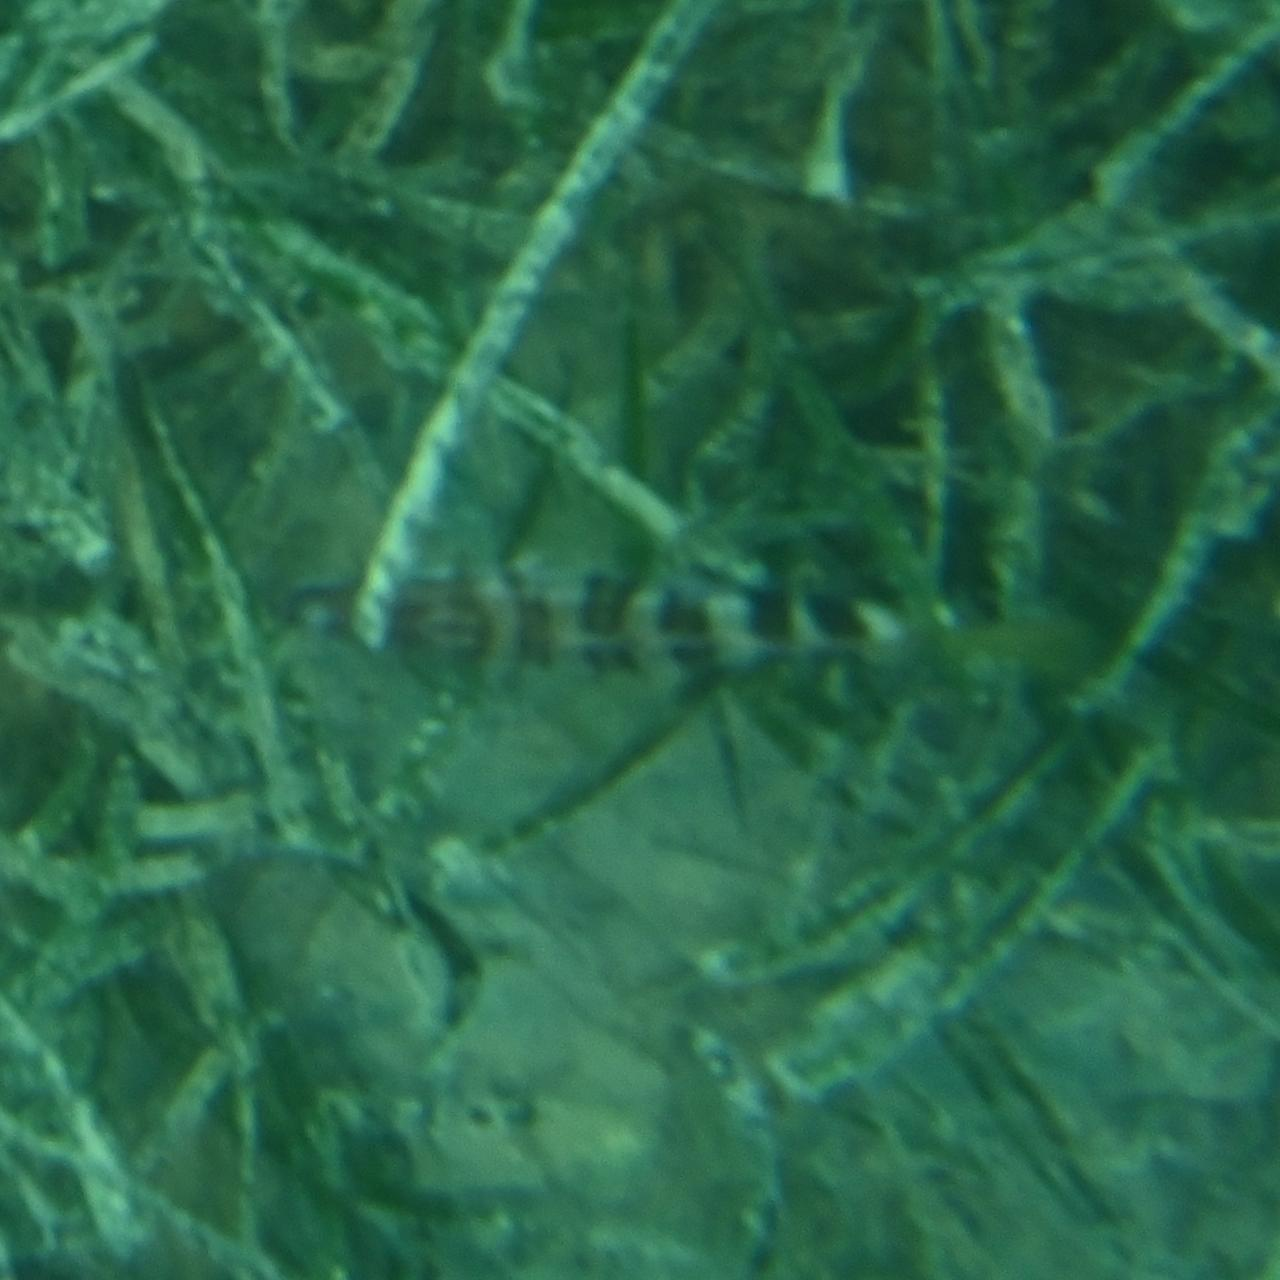Serranus scriba: (238, 556, 1042, 724)
